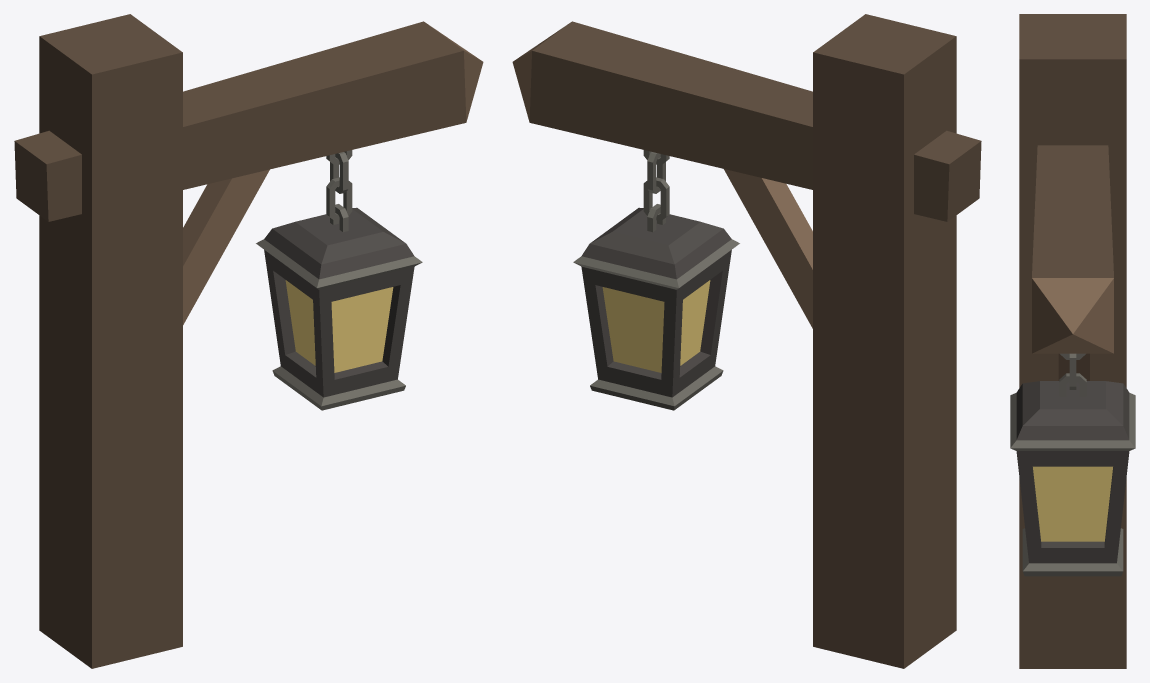
Rendered from Prop_Lamp_Street.obj.
3 views of the same model, side by side, from view 1: azimuth 30°, elevation 25°; view 2: azimuth 150°, elevation 25°; view 3: azimuth 270°, elevation 25° (orthographic). The views are drawn at different scales.
Visible parts, largest first — view 1: object5, object2, object6, object8, object1, object4; view 2: object5, object2, object6, object1, object8, object4; view 3: object5, object2, object6, object8, object1, object9, object4.
Boxes of the visible parts, box(x1,y1,x2,y2) form: object5: box(39, 14, 182, 668); object2: box(14, 21, 483, 221); object6: box(256, 207, 422, 410); object8: box(285, 280, 393, 372); object1: box(183, 169, 269, 324); object4: box(326, 177, 352, 221); object5: box(813, 14, 956, 668); object2: box(512, 21, 981, 221); object6: box(573, 207, 739, 410); object1: box(724, 169, 812, 328); object8: box(602, 280, 710, 372); object4: box(643, 177, 669, 221); object5: box(1019, 14, 1126, 668); object2: box(1032, 145, 1113, 353); object6: box(1010, 381, 1135, 576); object8: box(1033, 466, 1112, 541); object1: box(1058, 353, 1089, 380); object9: box(1059, 373, 1086, 396); object4: box(1069, 353, 1076, 389).
Size of the model in its own units: 0.9969 by 1.25 by 0.2333.
